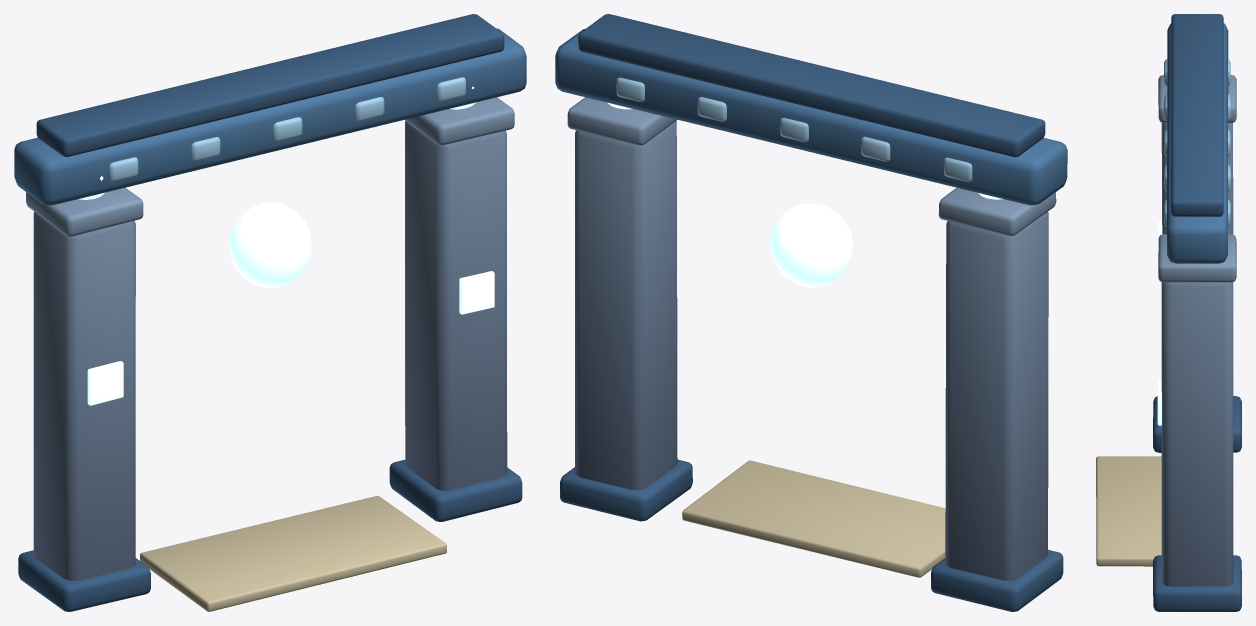
3 renders of one model, left to right at view 1: azimuth 30°, elevation 25°; view 2: azimuth 150°, elevation 25°; view 3: azimuth 270°, elevation 25°, orthographic. The views are drawn at different scales.
Visible parts, largest first — view 1: gate_c916bb64; view 2: gate_c916bb64; view 3: gate_c916bb64.
Boxes of the visible parts, x1,y1,x2,y2 form: gate_c916bb64: [14, 14, 526, 611]; gate_c916bb64: [555, 14, 1067, 611]; gate_c916bb64: [1096, 14, 1241, 611].
Bounding box in the file's own units: 4.87 × 4.46 × 1.44.
